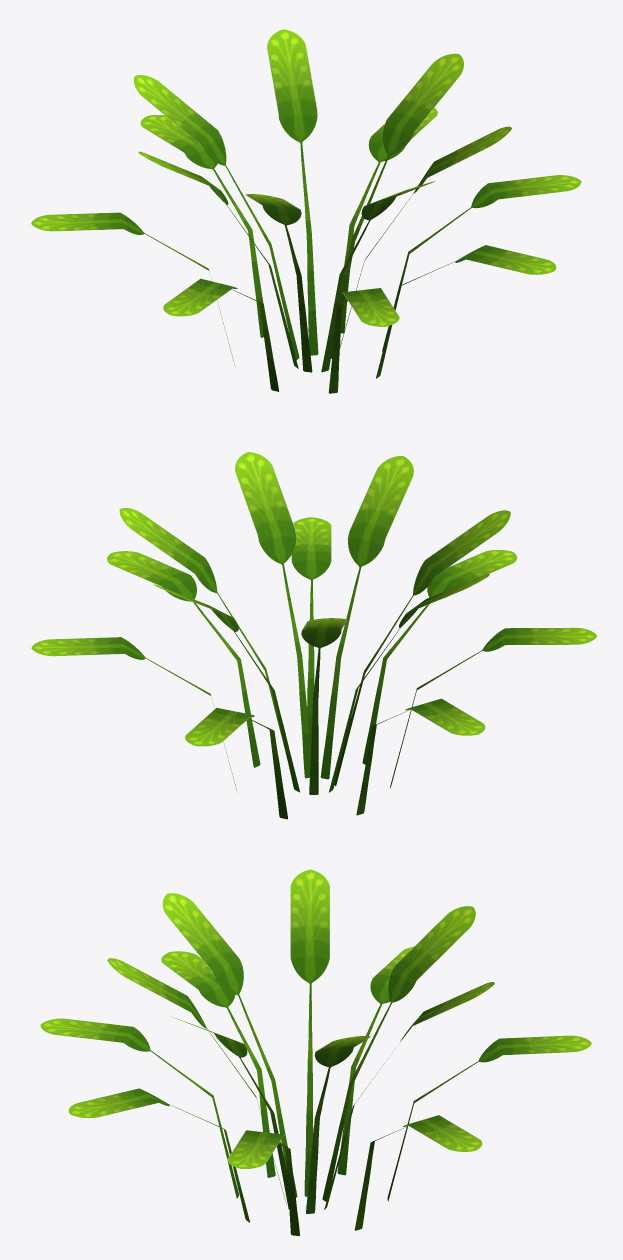
The model's file is Grass_01.FBX.
3 renders of one model, top to bottom at view 1: azimuth 30°, elevation 25°; view 2: azimuth 150°, elevation 25°; view 3: azimuth 270°, elevation 25°, orthographic.
Parts seen in each view (by area): view 1: Grass_01; view 2: Grass_01; view 3: Grass_01.
Part boxes in pixels (left/top/right/bottom): Grass_01: left=31, top=29, right=581, bottom=393; Grass_01: left=31, top=452, right=596, bottom=819; Grass_01: left=40, top=869, right=591, bottom=1236.
Size of the model in its own units: 42.57 by 20.51 by 42.99.
